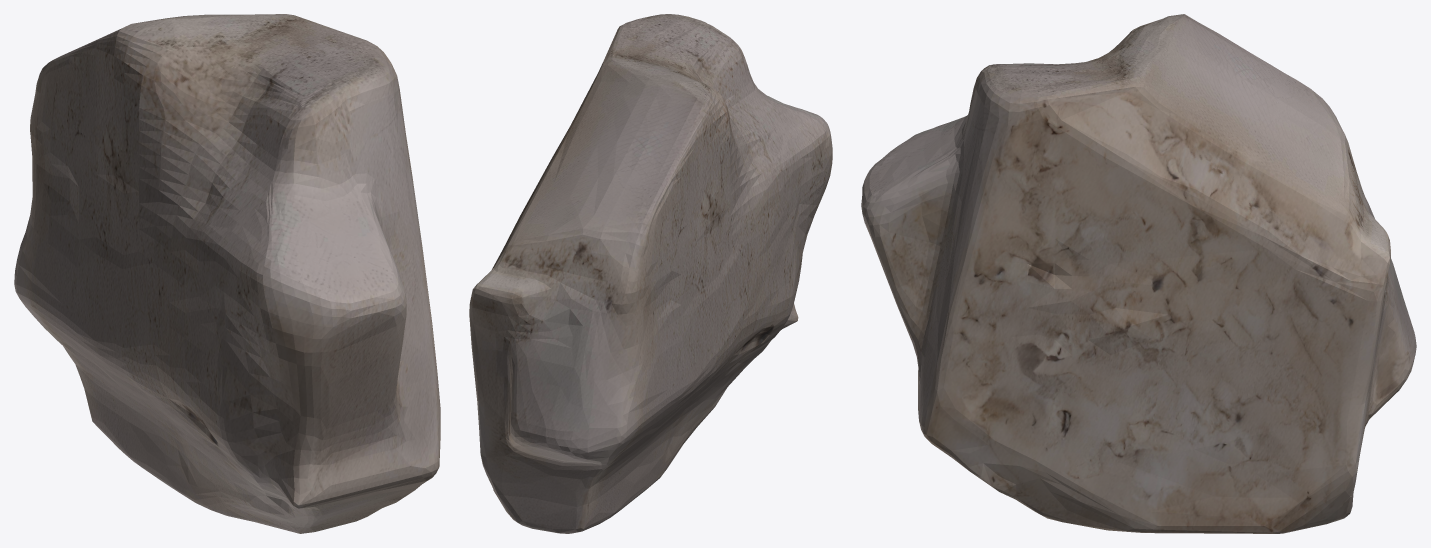
File: clay_minerals_001.glb
3 views of the same model, side by side, from view 1: azimuth 30°, elevation 25°; view 2: azimuth 150°, elevation 25°; view 3: azimuth 270°, elevation 25° (orthographic). The views are drawn at different scales.
Visible parts, largest first — view 1: tripo_node_575fa52f-ba00-489f-9bd7-30e9f8209563; view 2: tripo_node_575fa52f-ba00-489f-9bd7-30e9f8209563; view 3: tripo_node_575fa52f-ba00-489f-9bd7-30e9f8209563.
Part boxes in pixels (bbox=[...]): tripo_node_575fa52f-ba00-489f-9bd7-30e9f8209563: bbox=[14, 14, 440, 533]; tripo_node_575fa52f-ba00-489f-9bd7-30e9f8209563: bbox=[469, 14, 832, 533]; tripo_node_575fa52f-ba00-489f-9bd7-30e9f8209563: bbox=[861, 14, 1416, 533].
Size of the model in its own units: 0.348 by 0.8499 by 0.9506.
Materials: 1 (1 with a texture image).
